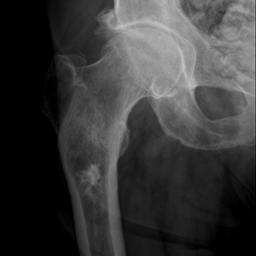cancer: (76, 163, 102, 198)
